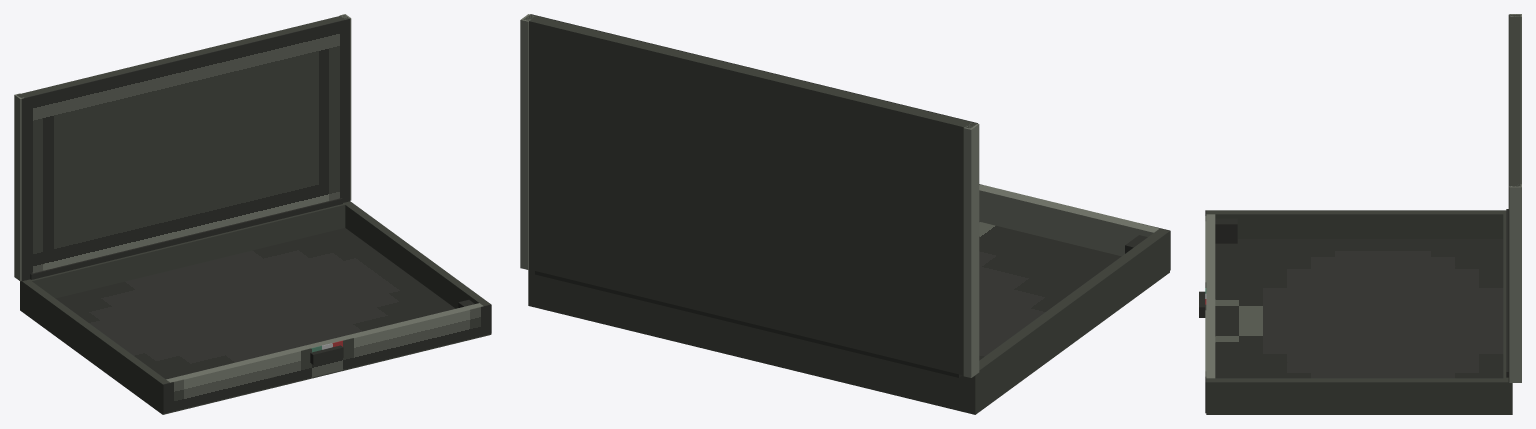
The model's file is CMU3DPizzaRandomBoxCloudOpenStudy.glb.
The picture shows the model from 3 angles, left to right: view 1: azimuth 30°, elevation 25°; view 2: azimuth 150°, elevation 25°; view 3: azimuth 270°, elevation 25°; orthographic projection. The views are drawn at different scales.
Visible parts, largest first — view 1: original inner lid and border, original empty tray interior, original front print and closure tab, rear folded rim, left hollow carton wall, right hollow carton wall, cardboard hinge fold, upright solid lid, folded cardboard bottom, front folded rim, open lid left doubled edge, folded closure tongue; view 2: upright solid lid, rear folded rim, original empty tray interior, left hollow carton wall, folded cardboard bottom, front folded rim, open lid left doubled edge, open lid right doubled edge, cardboard hinge fold; view 3: original empty tray interior, right hollow carton wall, left hollow carton wall, open lid right doubled edge, folded cardboard bottom, upright solid lid, front folded rim, original inner lid and border, rear folded rim, corner overlap tab 1, cardboard hinge fold, original front print and closure tab (+1 smaller).
Part boxes in pixels (<box>): original inner lid and border: <box>21,18,350,281</box>; original empty tray interior: <box>55,228,455,377</box>; original front print and closure tab: <box>163,304,491,413</box>; rear folded rim: <box>30,203,345,298</box>; left hollow carton wall: <box>20,279,169,407</box>; right hollow carton wall: <box>343,201,490,308</box>; cardboard hinge fold: <box>30,198,342,279</box>; upright solid lid: <box>16,15,349,97</box>; folded cardboard bottom: <box>20,304,491,414</box>; front folded rim: <box>166,303,483,382</box>; open lid left doubled edge: <box>14,93,23,281</box>; folded closure tongue: <box>310,345,343,364</box>; upright solid lid: <box>523,14,977,375</box>; rear folded rim: <box>538,275,965,402</box>; original empty tray interior: <box>979,221,1121,360</box>; left hollow carton wall: <box>965,228,1169,405</box>; folded cardboard bottom: <box>528,263,1169,414</box>; front folded rim: <box>979,184,1159,256</box>; open lid left doubled edge: <box>963,123,979,377</box>; open lid right doubled edge: <box>520,14,534,269</box>; cardboard hinge fold: <box>535,271,962,377</box>; original empty tray interior: <box>1215,239,1503,378</box>; right hollow carton wall: <box>1206,378,1512,407</box>; left hollow carton wall: <box>1206,210,1506,238</box>; open lid right doubled edge: <box>1509,184,1521,382</box>; folded cardboard bottom: <box>1206,407,1512,414</box>; upright solid lid: <box>1509,14,1520,186</box>; front folded rim: <box>1206,214,1215,378</box>; original inner lid and border: <box>1508,15,1509,381</box>; rear folded rim: <box>1503,214,1508,378</box>; corner overlap tab 1: <box>1215,218,1237,243</box>; cardboard hinge fold: <box>1506,209,1508,377</box>; original front print and closure tab: <box>1205,210,1206,413</box>.
Bounding box in the file's own units: 0.9768 × 0.6 × 0.769.
Materials: 6 (3 with a texture image).
